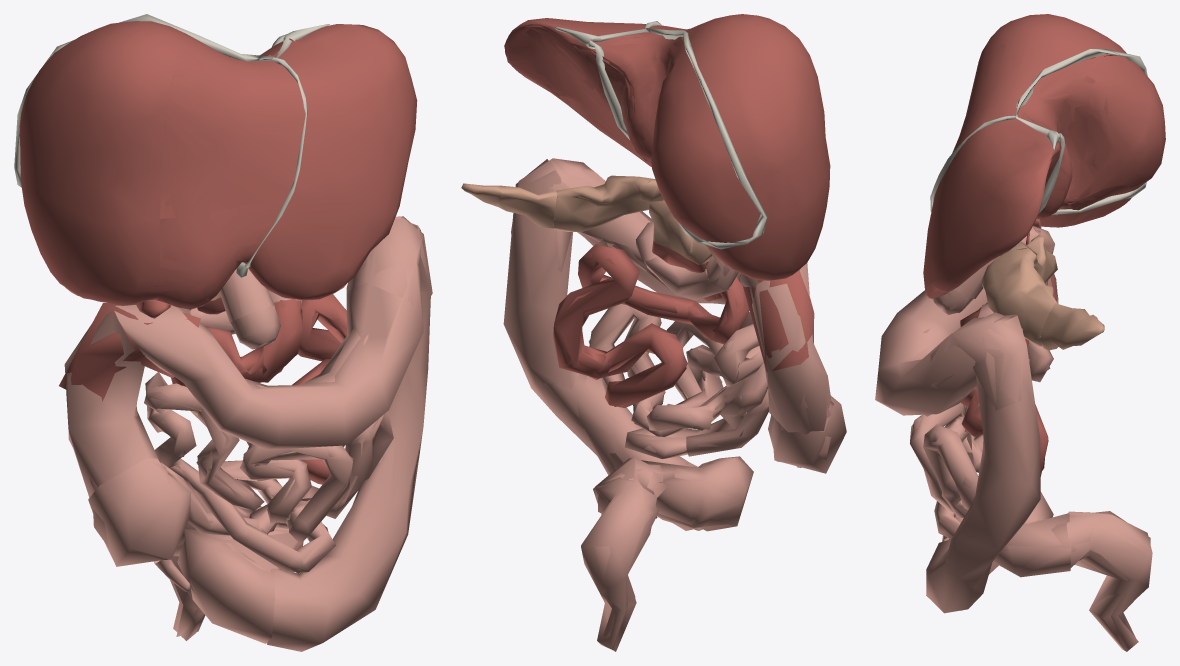
Rendered from adult_female.digestive.LOD3.glb.
The picture shows the model from 3 angles, left to right: view 1: azimuth 30°, elevation 25°; view 2: azimuth 150°, elevation 25°; view 3: azimuth 270°, elevation 25°; orthographic projection. The views are drawn at different scales.
Visible parts, largest first — view 1: ADULT.FEMALE.DIGESTIVE.CAPSULE_OF_THE_LIVER, ADULT.FEMALE.DIGESTIVE.TRANSVERSE_COLON, ADULT.FEMALE.DIGESTIVE.ILEUM, ADULT.FEMALE.DIGESTIVE.DESCENDING_COLON, ADULT.FEMALE.DIGESTIVE.LEFT_SUPEROMEDIAL_SEGMENT1, ADULT.FEMALE.DIGESTIVE.ASCENDING_COLON, ADULT.FEMALE.DIGESTIVE.SIGMOID_COLON, ADULT.FEMALE.DIGESTIVE.CAECUM, ADULT.FEMALE.DIGESTIVE.JEJENUM, ADULT.FEMALE.DIGESTIVE.LEFT_INFEROMEDIAL_SEGMENT, ADULT.FEMALE.DIGESTIVE.HEPATIC_FLEXURE_OF_COLON, ADULT.FEMALE.DIGESTIVE.SPLENIC_FLEXURE_OF_COLON (+6 smaller); view 2: ADULT.FEMALE.DIGESTIVE.CAPSULE_OF_THE_LIVER, ADULT.FEMALE.DIGESTIVE.BARE_AREA_OF_LIVER, ADULT.FEMALE.DIGESTIVE.DESCENDING_COLON, ADULT.FEMALE.DIGESTIVE.JEJENUM, ADULT.FEMALE.DIGESTIVE.ILEUM, ADULT.FEMALE.DIGESTIVE.RECTUM, ADULT.FEMALE.DIGESTIVE.SIGMOID_COLON, ADULT.FEMALE.DIGESTIVE.ASCENDING_COLON, ADULT.FEMALE.DIGESTIVE.BODY_OF_PANCREAS, ADULT.FEMALE.DIGESTIVE.DIAPHRAGMATIC_SURFACE_OF_LIVER, ADULT.FEMALE.DIGESTIVE.TRANSVERSE_COLON, ADULT.FEMALE.DIGESTIVE.HEPATIC_FLEXURE_OF_COLON (+13 smaller); view 3: ADULT.FEMALE.DIGESTIVE.CAPSULE_OF_THE_LIVER, ADULT.FEMALE.DIGESTIVE.DESCENDING_COLON, ADULT.FEMALE.DIGESTIVE.BARE_AREA_OF_LIVER, ADULT.FEMALE.DIGESTIVE.TRANSVERSE_COLON, ADULT.FEMALE.DIGESTIVE.RECTUM, ADULT.FEMALE.DIGESTIVE.ILEUM, ADULT.FEMALE.DIGESTIVE.BODY_OF_PANCREAS, ADULT.FEMALE.DIGESTIVE.SIGMOID_COLON, ADULT.FEMALE.DIGESTIVE.CAUDATE_LOBE, ADULT.FEMALE.DIGESTIVE.SPLENIC_FLEXURE_OF_COLON, ADULT.FEMALE.DIGESTIVE.LEFT_SUPEROMEDIAL_SEGMENT1, ADULT.FEMALE.DIGESTIVE.TAIL_OF_PANCREAS (+8 smaller).
Boxes of the visible parts, x1,y1,x2,y2 form: ADULT.FEMALE.DIGESTIVE.CAPSULE_OF_THE_LIVER: (19,21,417,309); ADULT.FEMALE.DIGESTIVE.TRANSVERSE_COLON: (114,216,423,449); ADULT.FEMALE.DIGESTIVE.ILEUM: (144,372,393,573); ADULT.FEMALE.DIGESTIVE.DESCENDING_COLON: (266,222,431,651); ADULT.FEMALE.DIGESTIVE.LEFT_SUPEROMEDIAL_SEGMENT1: (160,44,307,218); ADULT.FEMALE.DIGESTIVE.ASCENDING_COLON: (64,311,158,497); ADULT.FEMALE.DIGESTIVE.SIGMOID_COLON: (177,506,303,643); ADULT.FEMALE.DIGESTIVE.CAECUM: (88,458,191,566); ADULT.FEMALE.DIGESTIVE.JEJENUM: (171,294,346,484); ADULT.FEMALE.DIGESTIVE.LEFT_INFEROMEDIAL_SEGMENT: (151,204,283,308); ADULT.FEMALE.DIGESTIVE.HEPATIC_FLEXURE_OF_COLON: (59,303,200,403); ADULT.FEMALE.DIGESTIVE.SPLENIC_FLEXURE_OF_COLON: (347,216,432,306); ADULT.FEMALE.DIGESTIVE.CAPSULE_OF_THE_LIVER: (504,14,830,280); ADULT.FEMALE.DIGESTIVE.BARE_AREA_OF_LIVER: (589,35,760,242); ADULT.FEMALE.DIGESTIVE.DESCENDING_COLON: (503,159,702,530); ADULT.FEMALE.DIGESTIVE.JEJENUM: (553,244,749,407); ADULT.FEMALE.DIGESTIVE.ILEUM: (588,304,767,459); ADULT.FEMALE.DIGESTIVE.RECTUM: (581,479,659,651); ADULT.FEMALE.DIGESTIVE.SIGMOID_COLON: (593,456,753,531); ADULT.FEMALE.DIGESTIVE.ASCENDING_COLON: (752,263,831,434); ADULT.FEMALE.DIGESTIVE.BODY_OF_PANCREAS: (553,175,655,231); ADULT.FEMALE.DIGESTIVE.DIAPHRAGMATIC_SURFACE_OF_LIVER: (504,24,801,280); ADULT.FEMALE.DIGESTIVE.TRANSVERSE_COLON: (550,160,760,304); ADULT.FEMALE.DIGESTIVE.HEPATIC_FLEXURE_OF_COLON: (740,270,814,372); ADULT.FEMALE.DIGESTIVE.CAPSULE_OF_THE_LIVER: (923,14,1132,298); ADULT.FEMALE.DIGESTIVE.DESCENDING_COLON: (926,315,1040,613); ADULT.FEMALE.DIGESTIVE.BARE_AREA_OF_LIVER: (1020,55,1165,206); ADULT.FEMALE.DIGESTIVE.TRANSVERSE_COLON: (875,288,1016,416); ADULT.FEMALE.DIGESTIVE.RECTUM: (1066,511,1152,651); ADULT.FEMALE.DIGESTIVE.ILEUM: (910,341,1053,539); ADULT.FEMALE.DIGESTIVE.BODY_OF_PANCREAS: (981,248,1058,346); ADULT.FEMALE.DIGESTIVE.SIGMOID_COLON: (942,491,1071,577); ADULT.FEMALE.DIGESTIVE.CAUDATE_LOBE: (1020,71,1111,218); ADULT.FEMALE.DIGESTIVE.SPLENIC_FLEXURE_OF_COLON: (930,312,1024,410); ADULT.FEMALE.DIGESTIVE.LEFT_SUPEROMEDIAL_SEGMENT1: (948,43,1033,167); ADULT.FEMALE.DIGESTIVE.TAIL_OF_PANCREAS: (1040,303,1104,350).
Size of the model in its own units: 0.2534 by 0.4454 by 0.1996.
